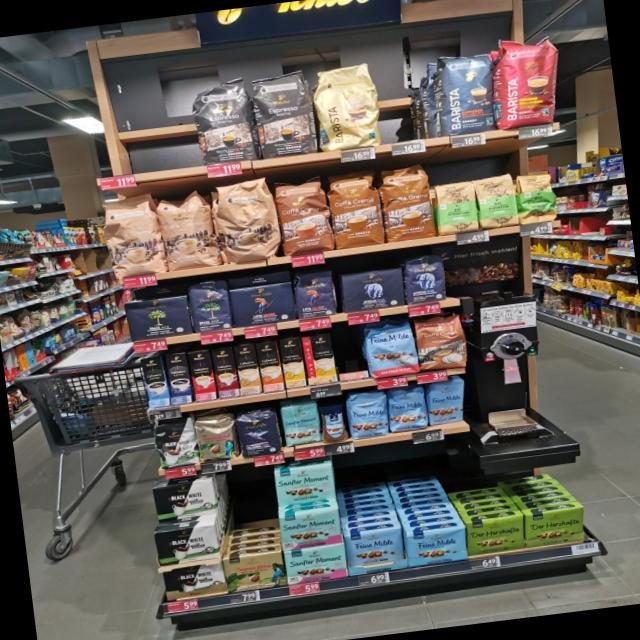AB Bohne: (402, 252, 448, 306)
AB Gemahlen: (340, 266, 406, 313)
Athiopien Bohne: (516, 169, 561, 225)
Athiopien Gemahlen: (472, 170, 520, 230), (434, 179, 480, 236)
BM Bohne: (186, 277, 234, 334)
BM Gemahlen: (123, 295, 194, 342)
BW Bohne: (151, 415, 200, 470)
BW Gemahlen: (152, 523, 221, 566), (152, 478, 215, 523), (161, 561, 227, 601)
Barista CB: (310, 59, 386, 153)
Barista Espresso: (436, 46, 495, 138)
Barista Kolumbien: (492, 30, 555, 128)
C Fino Bohne: (234, 406, 283, 459)
CC Mild: (211, 176, 283, 265), (99, 191, 169, 280), (156, 188, 222, 271)
CC Vollmundig: (414, 312, 469, 372)
CC Vollmundig 36 Pads: (273, 173, 336, 255), (327, 166, 387, 250), (377, 160, 437, 244)
Colombia BB Bohne: (194, 413, 239, 463)
Colombia BB Gemahlen: (223, 551, 287, 594)
Empty Shelf: (335, 443, 459, 534), (86, 82, 193, 176), (376, 52, 443, 144), (216, 468, 280, 557), (332, 327, 368, 373)
Espresso Kraftig: (184, 73, 259, 165), (248, 67, 319, 158)
FM 36 Pads: (363, 320, 420, 378)
FM Bohne: (346, 390, 390, 439), (386, 385, 429, 434), (429, 379, 466, 425)
FM Gemahlen: (345, 527, 406, 575), (405, 523, 468, 567)
FM Instant: (318, 402, 351, 444)
Herzhatfe Mundig: (467, 514, 526, 556), (527, 507, 585, 548)
LG Bohne: (295, 267, 338, 320)
LG Gemahlen: (228, 281, 296, 328)
SM Bohne: (279, 400, 322, 448)
SM Gemahlen: (278, 506, 344, 551), (273, 461, 337, 507), (285, 543, 347, 585)
Simo CCMild: (301, 332, 338, 384)
Simo CCMild bigpack: (277, 337, 306, 388)
Simo CCVollmundig bigpack: (255, 340, 284, 393)
Simo Decaff: (234, 343, 263, 395)
Simo Es Brazil: (187, 349, 217, 402)
Simo Es Caramel: (210, 347, 240, 398)
Simo Es Kraft: (165, 352, 192, 405)
Simo Es Vanilla: (140, 355, 171, 408)
